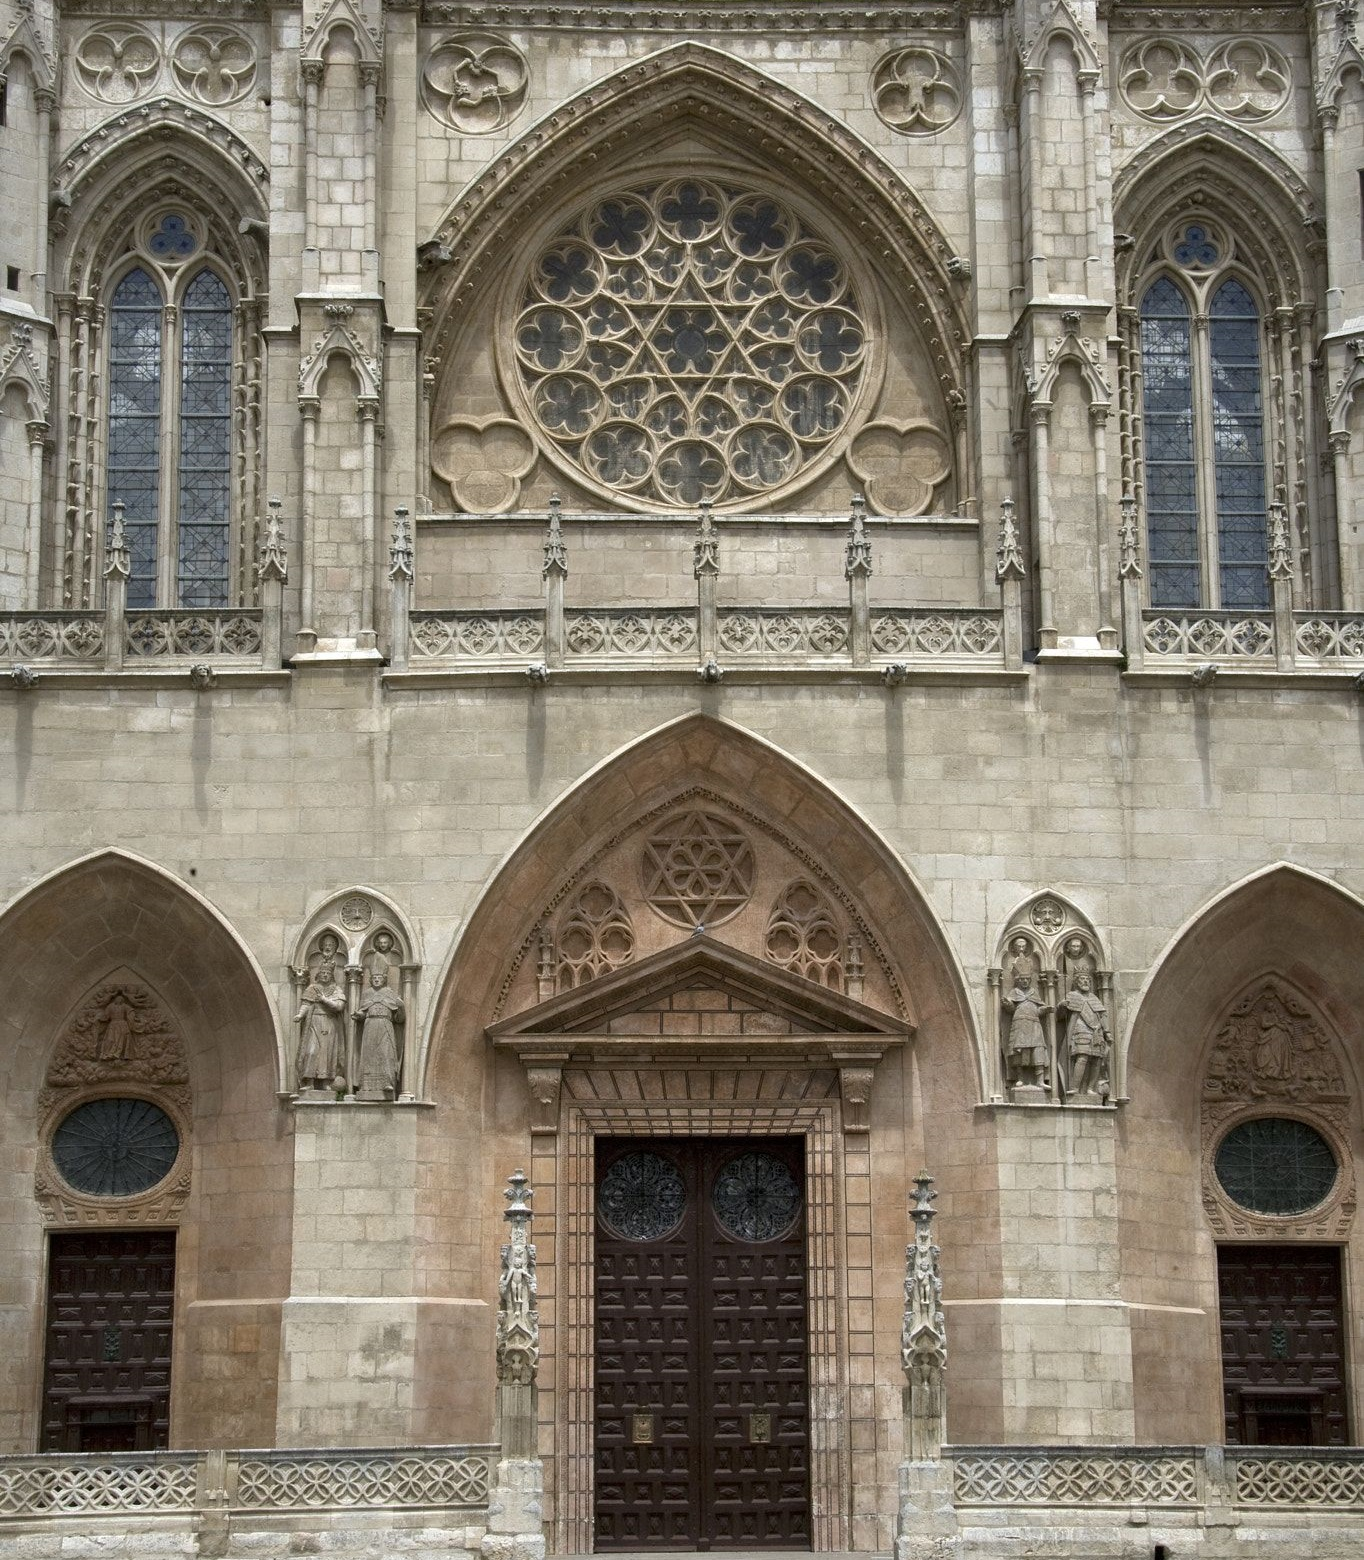arco-apuntado: (414, 41, 965, 322), (456, 703, 943, 927), (1, 842, 287, 1101), (1123, 854, 1364, 1102), (52, 98, 275, 294), (1113, 115, 1320, 292)
fronton: (480, 929, 929, 1060)
vano-adintelado: (559, 1090, 854, 1555)
